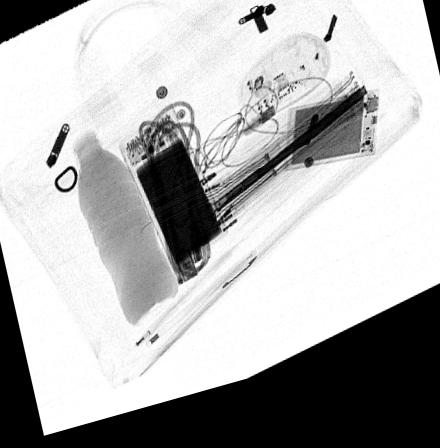Powerbank: (118, 111, 227, 282), (283, 109, 378, 186)
